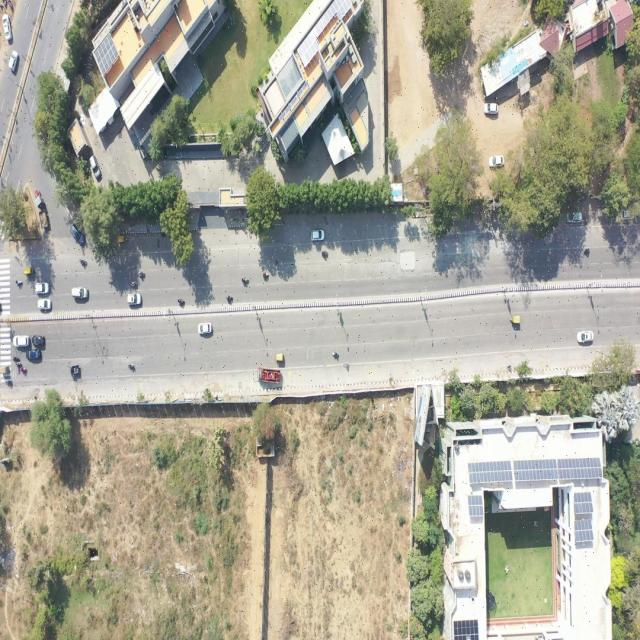3W: (22, 265, 35, 277), (116, 233, 129, 245), (0, 363, 10, 377), (509, 315, 522, 325), (273, 353, 285, 363)
Cars: (69, 219, 87, 247), (1, 13, 14, 43), (88, 154, 102, 180), (8, 48, 20, 73), (70, 286, 90, 301), (576, 329, 594, 345), (12, 333, 30, 349), (488, 154, 505, 170), (126, 292, 143, 307), (565, 210, 582, 225), (35, 280, 51, 295), (483, 101, 499, 116), (197, 321, 213, 336), (309, 229, 326, 242), (32, 333, 46, 348), (25, 349, 42, 361), (36, 298, 52, 310)
LCV: (34, 187, 49, 231), (68, 363, 81, 378)
M2W: (224, 293, 235, 303), (129, 279, 139, 289), (6, 0, 15, 11), (79, 258, 89, 267), (137, 270, 147, 279), (320, 248, 329, 258), (241, 276, 250, 285), (261, 270, 270, 279), (331, 350, 340, 359), (127, 362, 136, 371), (177, 297, 185, 306), (159, 231, 168, 238), (582, 248, 591, 255), (15, 279, 23, 286), (11, 356, 20, 362), (5, 379, 14, 385), (14, 362, 22, 367), (19, 367, 27, 372)
Truck: (256, 365, 282, 385)
